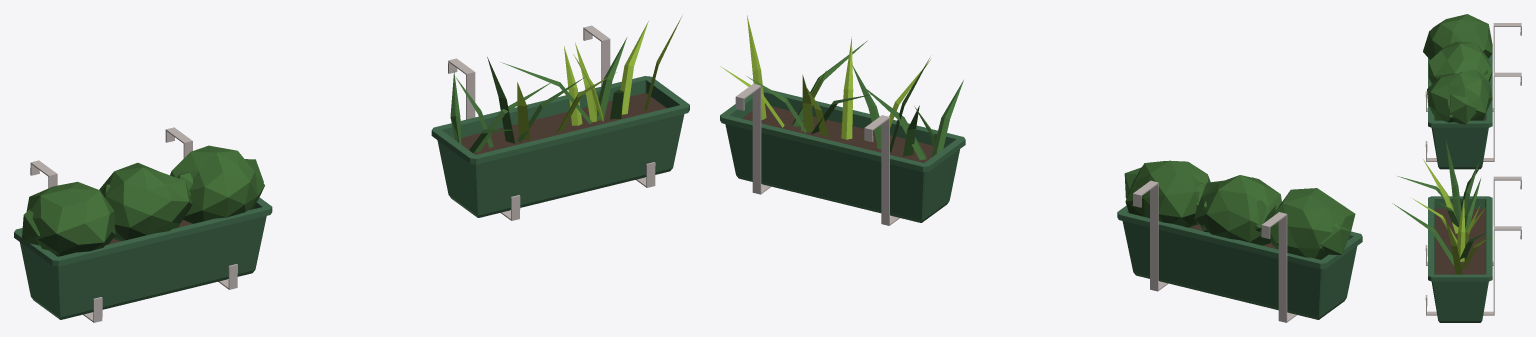
File: SM_Fixture_RailPlanterShort16520_Box_Green_01.gltf
The picture shows the model from 3 angles, left to right: view 1: azimuth 30°, elevation 25°; view 2: azimuth 150°, elevation 25°; view 3: azimuth 270°, elevation 25°; orthographic projection. The views are drawn at different scales.
Visible parts, largest first — view 1: SM_Fixture_RailPlanterShort16520_Box_Green_01; view 2: SM_Fixture_RailPlanterShort16520_Box_Green_01; view 3: SM_Fixture_RailPlanterShort16520_Box_Green_01.
Part boxes in pixels (box(x1,y1,x2,y2)): SM_Fixture_RailPlanterShort16520_Box_Green_01: box(14, 17, 689, 322); SM_Fixture_RailPlanterShort16520_Box_Green_01: box(720, 15, 1362, 322); SM_Fixture_RailPlanterShort16520_Box_Green_01: box(1392, 14, 1521, 322).
Size of the model in its own units: 1.9 by 0.4489 by 0.4445.
1 material, 1 textured.
